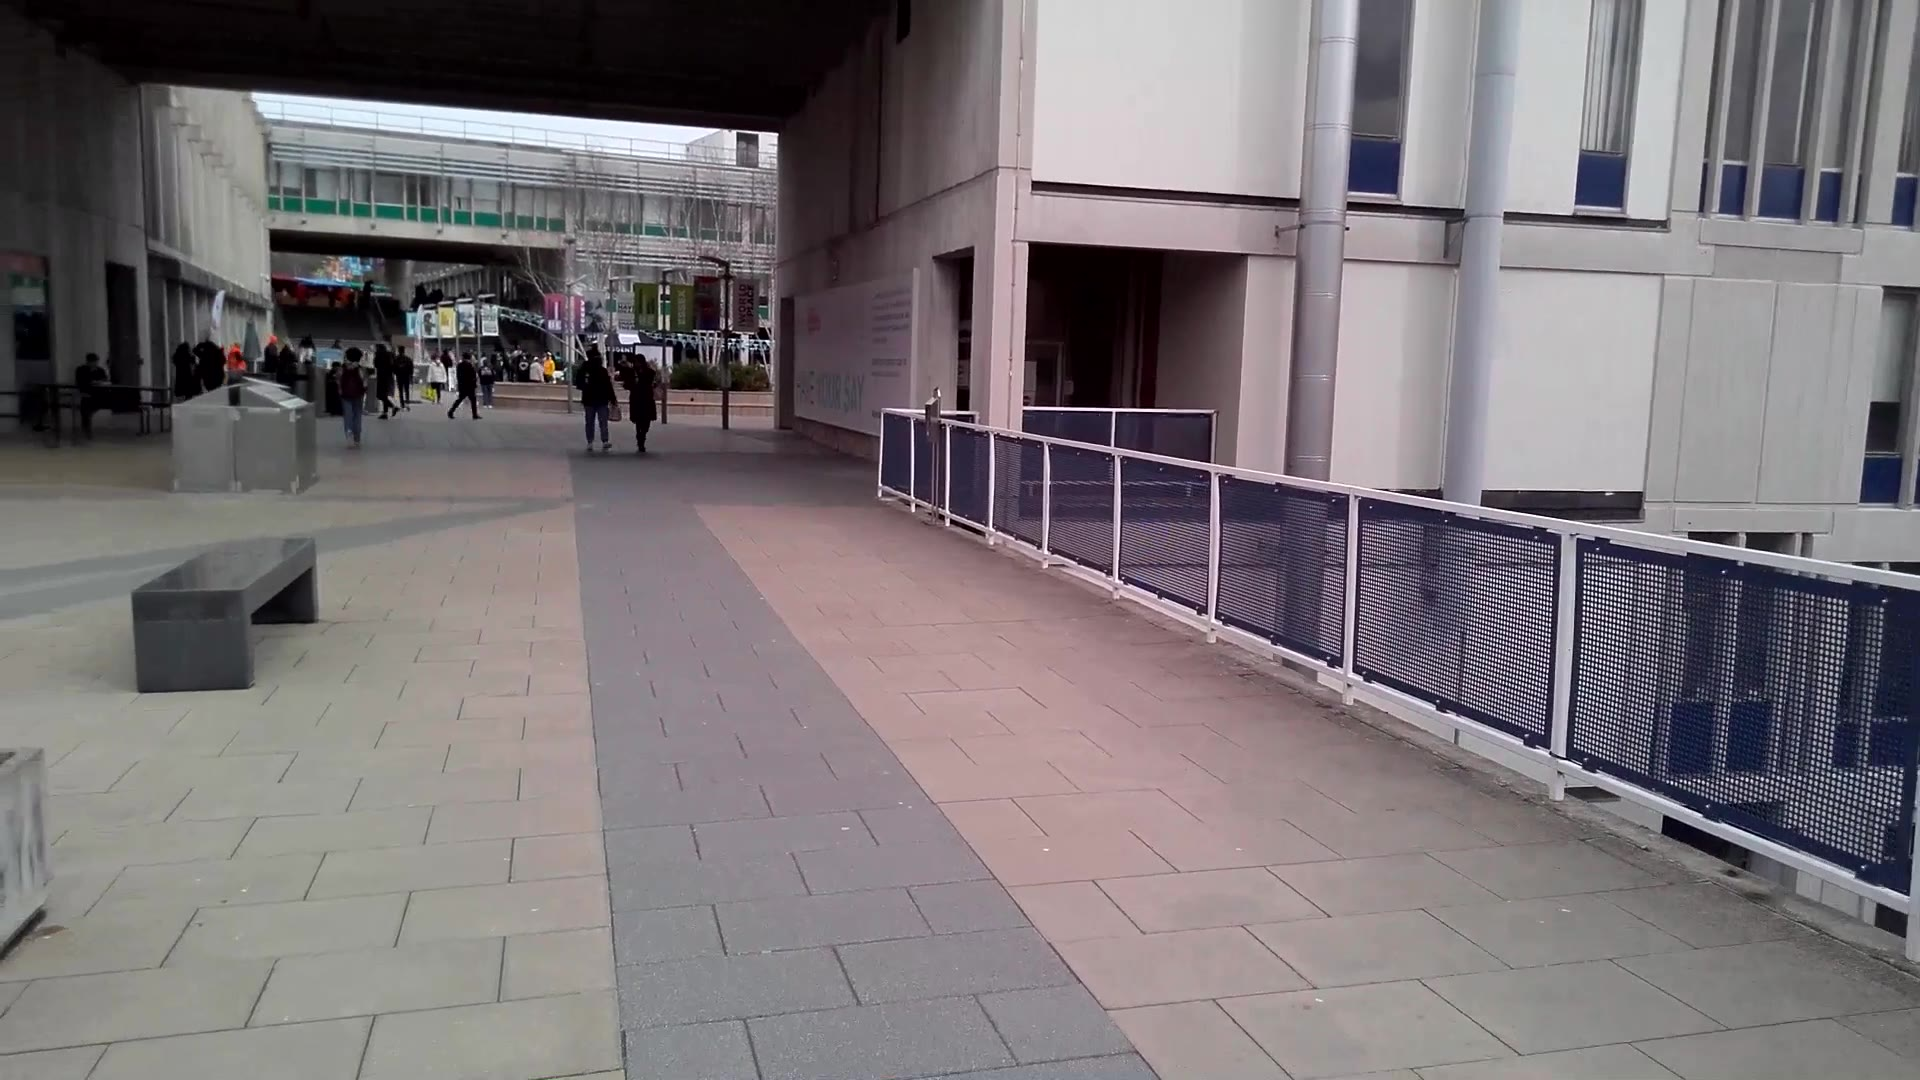Bin: (177, 385, 317, 495)
Person: (622, 346, 665, 462), (577, 347, 618, 461)
